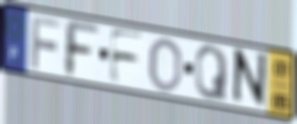F: (62, 17, 101, 80), (108, 26, 146, 86), (30, 13, 64, 72)
N: (230, 46, 268, 111)
O: (147, 36, 183, 95)
Q: (193, 44, 230, 104)
